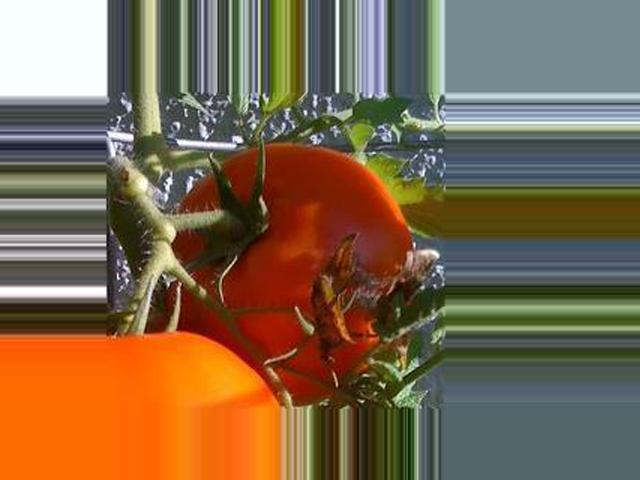tomato: (170, 142, 416, 401)
